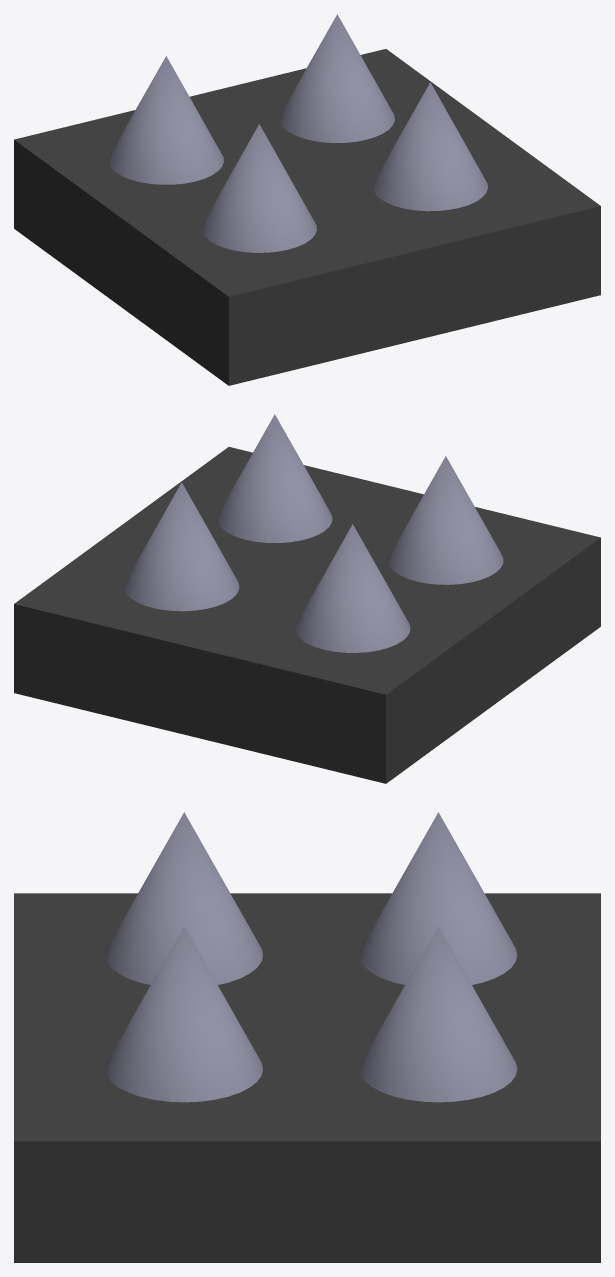
The model's file is SpikePlate.fbx.
3 views of the same model, one above another, from view 1: azimuth 30°, elevation 25°; view 2: azimuth 150°, elevation 25°; view 3: azimuth 270°, elevation 25° (orthographic). The views are drawn at different scales.
Parts seen in each view (by area): view 1: Cube, Cone.001, Cone.002, Cone.003, Cone; view 2: Cube, Cone.003, Cone.001, Cone.002, Cone; view 3: Cube, Cone.001, Cone, Cone.002, Cone.003.
Part boxes in pixels (left/top/right/bottom): Cube: left=14, top=49, right=600, bottom=385; Cone.001: left=279, top=14, right=394, bottom=142; Cone.002: left=108, top=56, right=223, bottom=184; Cone.003: left=201, top=124, right=316, bottom=252; Cone: left=372, top=82, right=487, bottom=211; Cube: left=14, top=447, right=600, bottom=783; Cone.003: left=388, top=456, right=503, bottom=584; Cone.001: left=124, top=482, right=239, bottom=611; Cone.002: left=295, top=524, right=410, bottom=652; Cone: left=217, top=414, right=332, bottom=542; Cube: left=14, top=893, right=600, bottom=1262; Cone.001: left=359, top=926, right=517, bottom=1102; Cone: left=105, top=926, right=262, bottom=1102; Cone.002: left=359, top=812, right=517, bottom=984; Cone.003: left=105, top=812, right=262, bottom=984.
Size of the model in its own units: 200 by 99.54 by 200.
